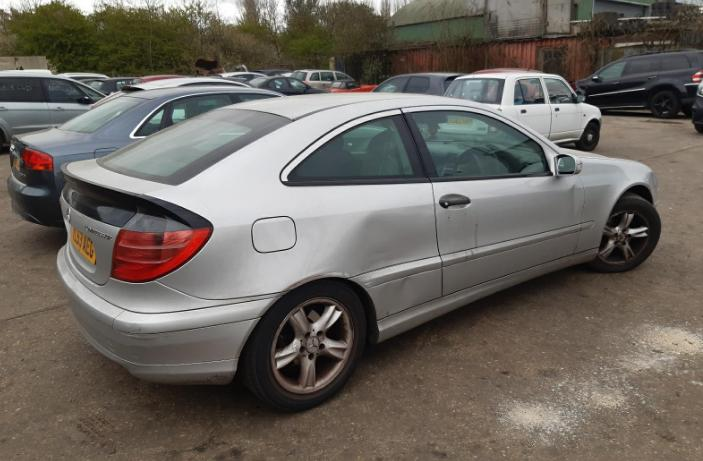Back-bumper: (57, 193, 287, 385)
Back-wheel: (243, 280, 366, 412)
Back-window: (288, 115, 426, 181)
Back-windshield: (98, 108, 292, 185)
Fender: (574, 157, 652, 253)
Front-bumper: (650, 186, 659, 206)
Front-door: (401, 105, 585, 296)
Front-wheel: (588, 191, 661, 273)
Front-window: (412, 111, 548, 177)
Headlight: (643, 171, 658, 188)
Hood: (559, 148, 611, 158)
License-plate: (71, 226, 96, 264)
Mirror: (554, 154, 583, 177)
Quarter-panel: (122, 178, 442, 320)
Rocker-panel: (376, 247, 598, 344)
Roof: (221, 92, 492, 133)
Tail-light: (110, 227, 211, 283)
Trunk: (60, 159, 174, 228)
